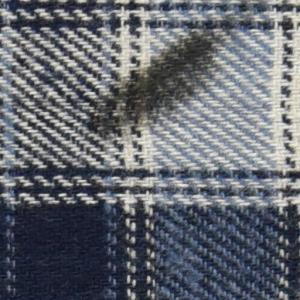Stain: (81, 21, 240, 144)
